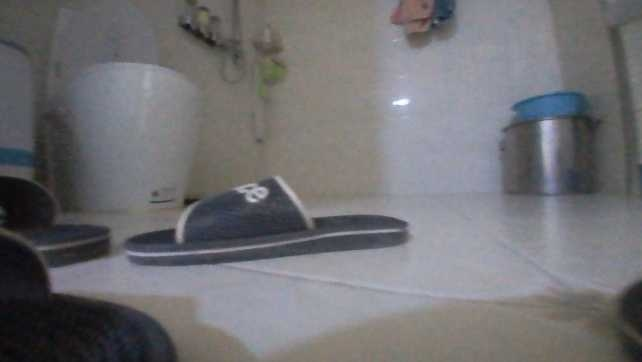slipper: (118, 172, 418, 270)
toilet: (41, 0, 202, 213)
